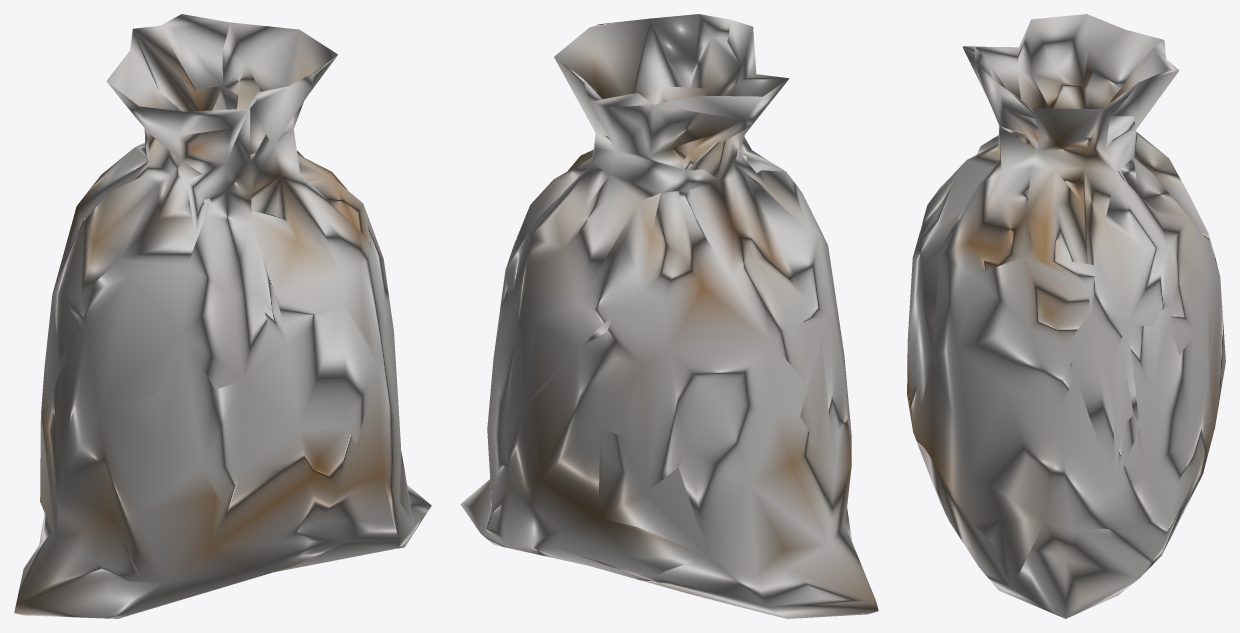
The model's file is gen3d-flour-sack-lod1.glb.
The picture shows the model from 3 angles, left to right: view 1: azimuth 30°, elevation 25°; view 2: azimuth 150°, elevation 25°; view 3: azimuth 270°, elevation 25°; orthographic projection. The views are drawn at different scales.
Visible parts, largest first — view 1: part_0; view 2: part_0; view 3: part_0.
Boxes of the visible parts, <box> form: part_0: <box>14,14,431,618</box>; part_0: <box>460,14,878,618</box>; part_0: <box>907,14,1225,618</box>.
Bounding box in the file's own units: 0.8449 × 0.9926 × 0.5961.
